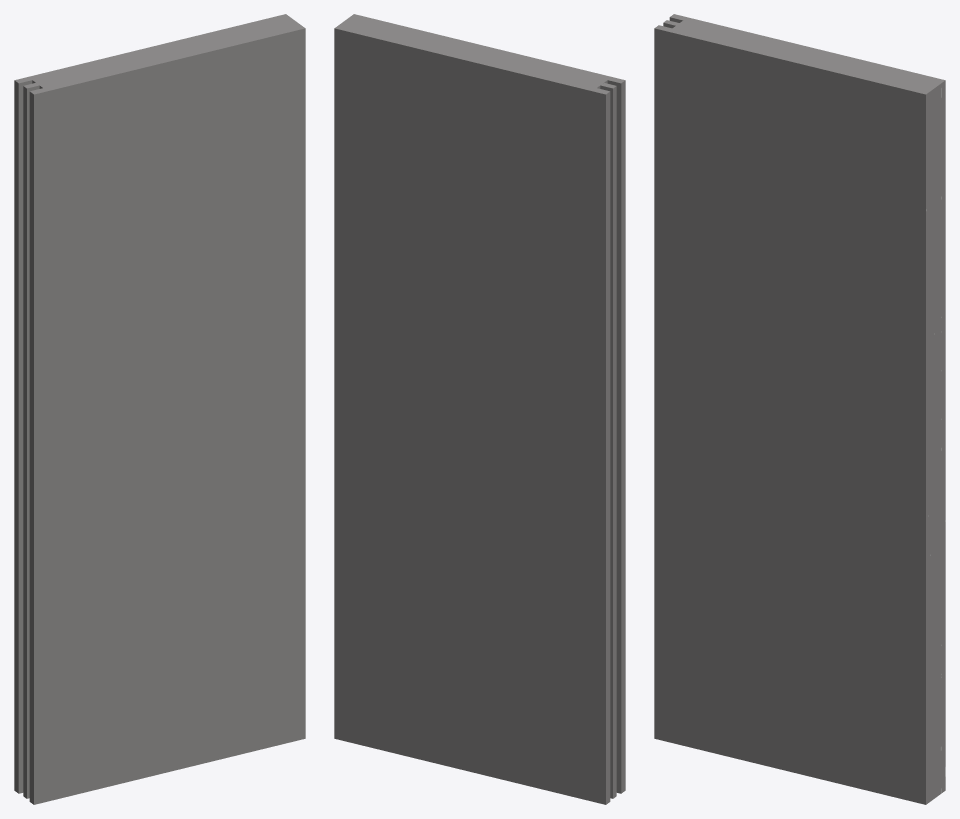
File: Elevator Door.fbx
3 renders of one model, left to right at view 1: azimuth 30°, elevation 25°; view 2: azimuth 150°, elevation 25°; view 3: azimuth 330°, elevation 25°, orthographic.
Visible parts, largest first — view 1: Elevator Door; view 2: Elevator Door; view 3: Elevator Door.
Boxes of the visible parts, x1,y1,x2,y2 form: Elevator Door: (14,14,305,804); Elevator Door: (334,14,625,804); Elevator Door: (654,14,945,804).
Bounding box in the file's own units: 64 × 160 × 8.
